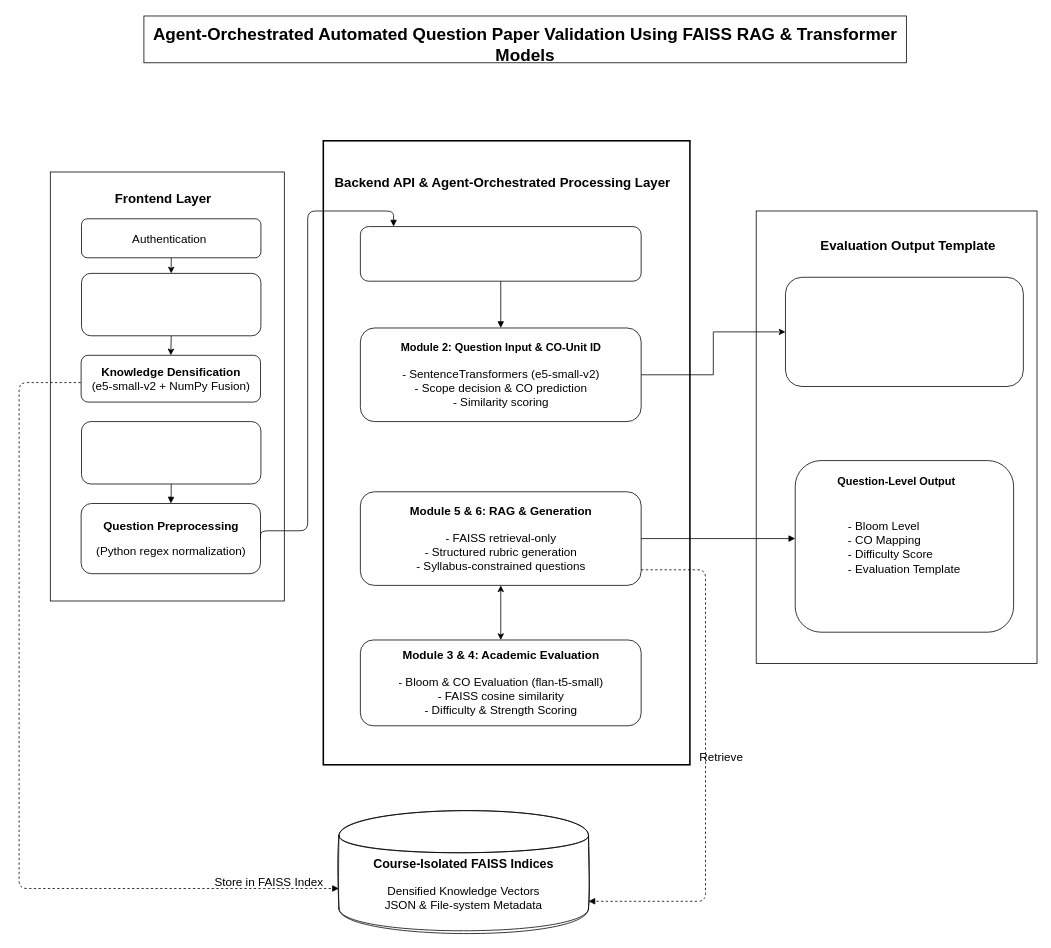
The diagram is 1051 pixels wide and 948 high, and some of its shapes have lost their labels. The centre of each missing label's shape, as x and y in pixels:
Central Agent Orchestrator (FastAPI + Request Routing): [500,253]
Live Evaluation Results - Scope Decision - Matched Unit - Predicted CO: [904,331]
Module 1: Course Knowledge Setup (Syllabus, COs, Reference Books): [171,304]
React-based Question Input (Course selection & evaluation): [171,452]
